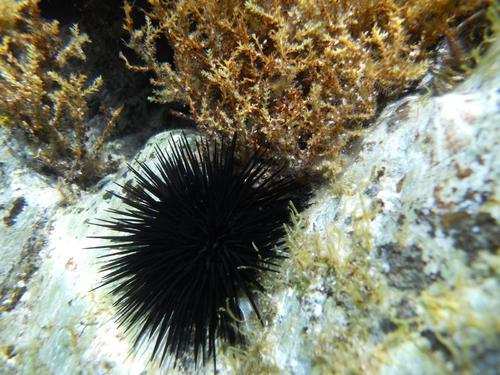urchin: (82, 126, 318, 371)
